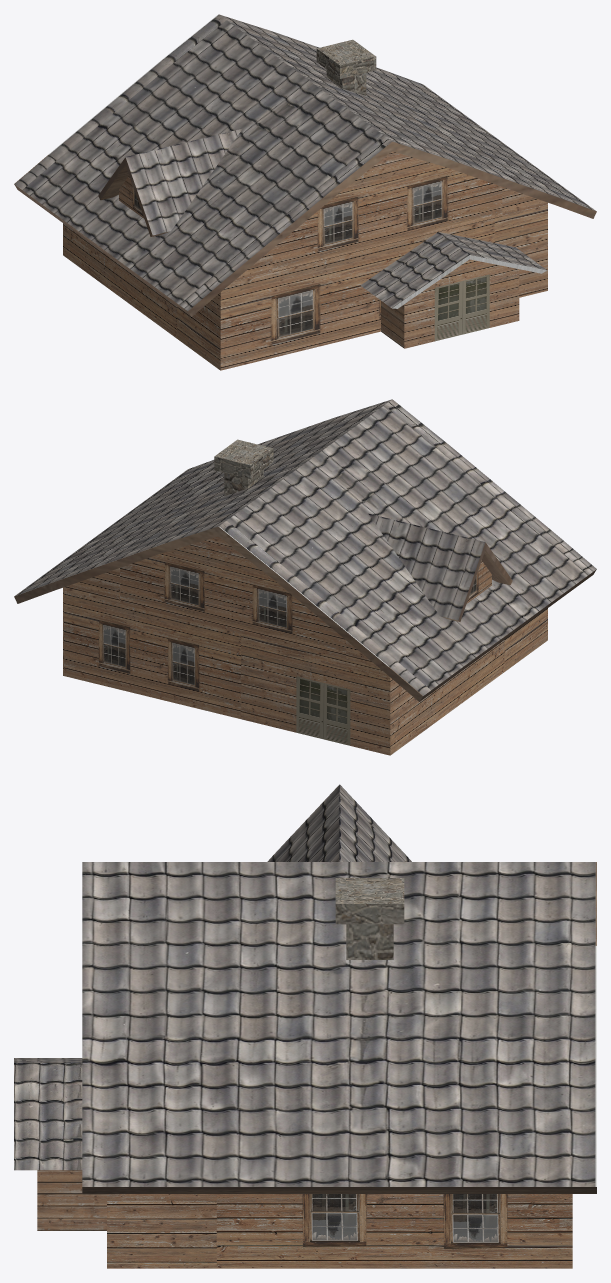
Rendered from sb_house_wood_mj.fbx.
The picture shows the model from 3 angles, top to bottom: view 1: azimuth 30°, elevation 25°; view 2: azimuth 150°, elevation 25°; view 3: azimuth 270°, elevation 25°; orthographic projection. The views are drawn at different scales.
Visible parts, largest first — view 1: sb_wood_house_mj; view 2: sb_wood_house_mj; view 3: sb_wood_house_mj.
Boxes of the visible parts, bbox=[...] form: sb_wood_house_mj: bbox=[14, 14, 596, 370]; sb_wood_house_mj: bbox=[14, 399, 596, 755]; sb_wood_house_mj: bbox=[14, 784, 596, 1268].
Size of the model in its own units: 15 by 7.03 by 12.52.
